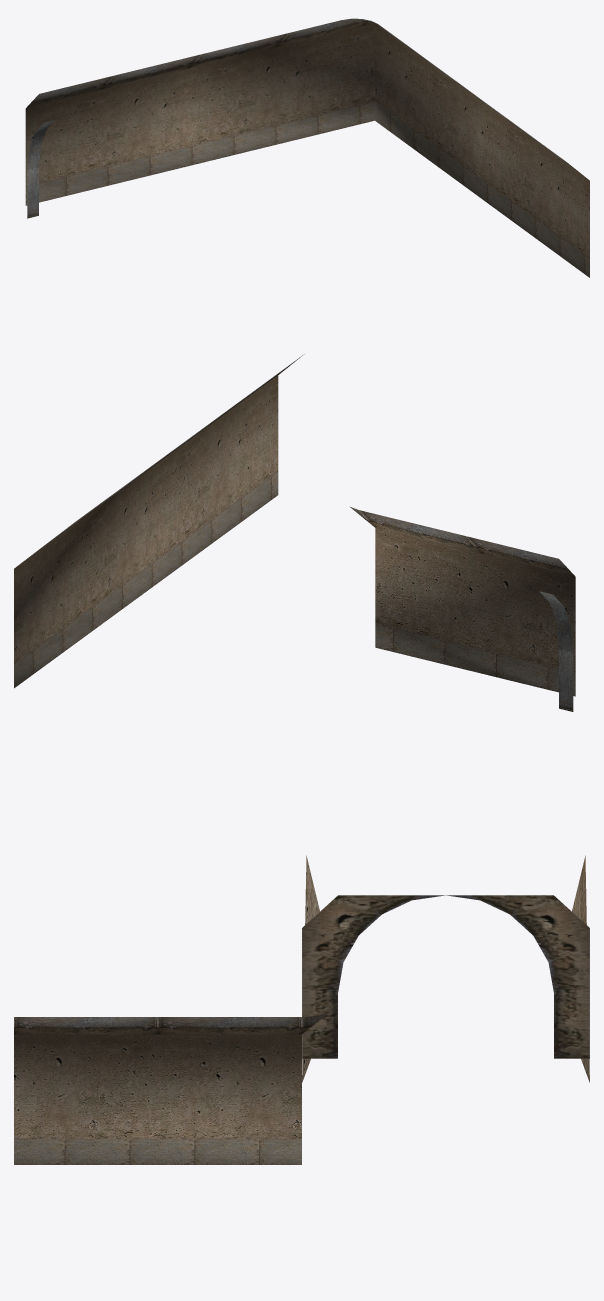
Rendered from M11Z1_Tunnel2.glb.
3 views of the same model, one above another, from view 1: azimuth 30°, elevation 25°; view 2: azimuth 150°, elevation 25°; view 3: azimuth 270°, elevation 25° (orthographic). The views are drawn at different scales.
Parts seen in each view (by area): view 1: M11Z1_TUNNEL2; view 2: M11Z1_TUNNEL2; view 3: M11Z1_TUNNEL2.
Boxes of the visible parts, x1,y1,x2,y2 form: M11Z1_TUNNEL2: (25,18,589,277); M11Z1_TUNNEL2: (14,354,575,711); M11Z1_TUNNEL2: (14,855,589,1164).
Size of the model in its own units: 15.5 by 7 by 16.
5 materials, 5 textured.
